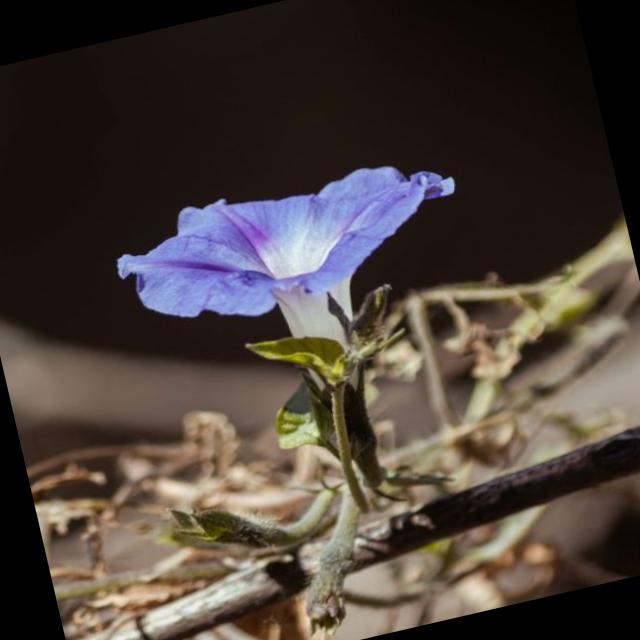ipomoea: (100, 141, 491, 408)
